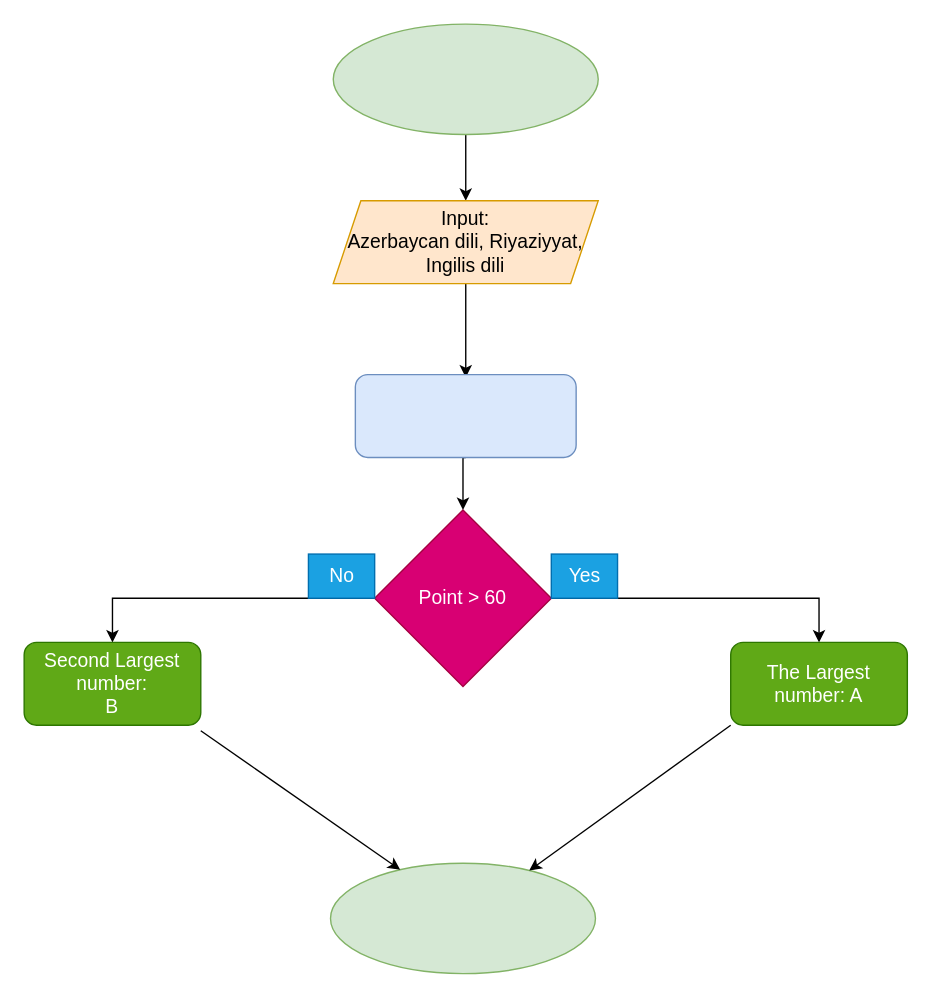
Some shapes in this 932 by 998 pixel diagram are drawn without their labels. The centre of each missing label's shape, as x and y in pixels:
(A + R + I) / 3: (x=465, y=415)
End: (x=462, y=918)
Start: (x=465, y=79)
